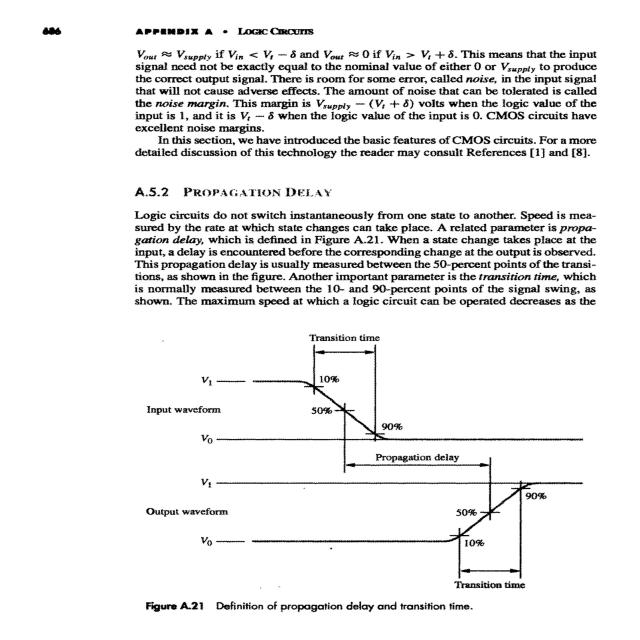diagram: (107, 321, 640, 616)
